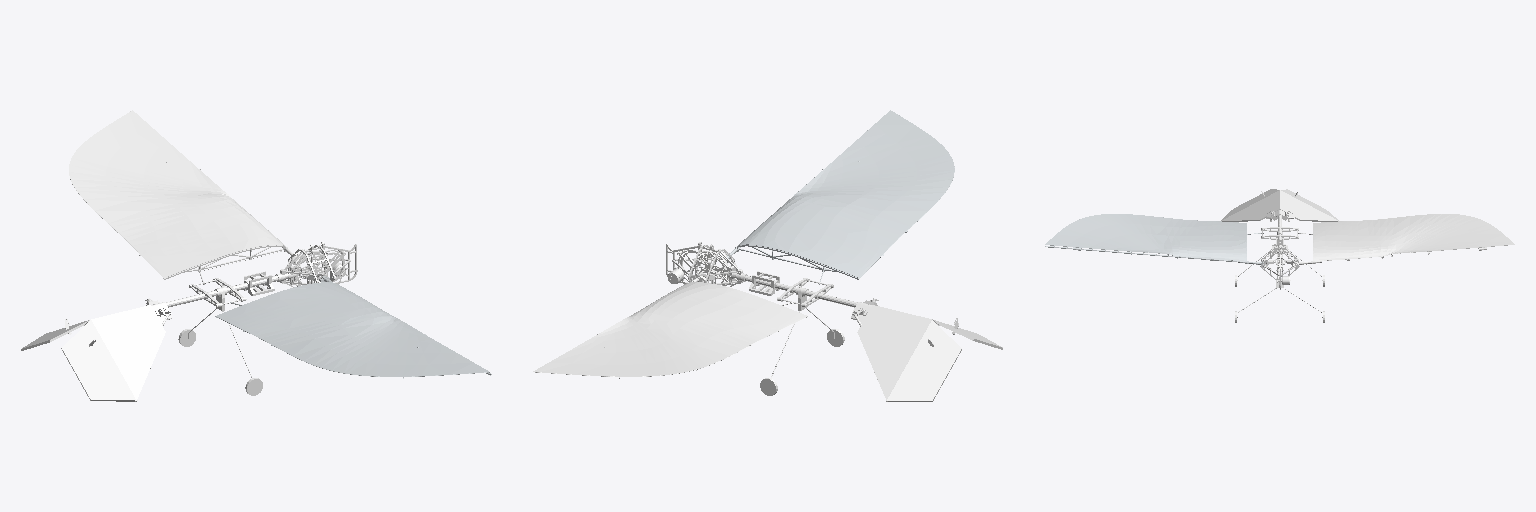
The robot description file, URDF, robot "flap_robot_v50":
<?xml version="1.0" encoding="utf-8"?>
<!-- This URDF was automatically created by SolidWorks to URDF Exporter! Originally created by Stephen Brawner (brawner@gmail.com) 
     Commit Version: 1.6.0-4-g7f85cfe  Build Version: 1.6.7995.38578
     For more information, please see http://wiki.ros.org/sw_urdf_exporter -->
<robot
  name="flap_robot_v50">
  <link
    name="base_link">
    <inertial>
      <origin
        xyz="-0.260802459386507 0.000662199130805234 -0.0309571464452782"
        rpy="0 0 0" />
      <mass
        value="0.468" />
      <inertia
        ixx="0.002390214378106"
        ixy="-0.000000006115854"
        ixz="-0.000079832048267"
        iyy="0.000747316706936"
        iyz="-0.000000002520206"
        izz="0.002714038518375" />
    </inertial>
    <visual>
      <origin
        xyz="0 0 0"
        rpy="0 0 0" />
      <geometry>
        <mesh
          filename="../meshes/base_link.STL" />
      </geometry>
      <material
        name="">
        <color
          rgba="1 1 1 1" />
      </material>
    </visual>
    <collision>
      <origin
        xyz="0 0 0"
        rpy="0 0 0" />
      <geometry>
        <mesh
          filename="../meshes/base_link.STL" />
      </geometry>
    </collision>
  </link>
  <link
    name="right_wing">
    <inertial>
      <origin
        xyz="-0.12151641416119 -0.309713216539523 0.00759174351901213"
        rpy="0 0 0" />
      <mass
        value="0.044" />
      <inertia
        ixx="0.001089709027872"
        ixy="0.000087727187230"
        ixz="-0.000003696614768"
        iyy="0.000269055322327"
        iyz="-0.000017204623714"
        izz="0.001356818829091" />
    </inertial>
    <visual>
      <origin
        xyz="0 0 0"
        rpy="0 0 0" />
      <geometry>
        <mesh
          filename="../meshes/youyi_Link.STL" />
      </geometry>
      <material
        name="">
        <color
          rgba="0.898039215686275 0.917647058823529 0.929411764705882 1" />
      </material>
    </visual>
    <collision>
      <origin
        xyz="0 0 0"
        rpy="0 0 0" />
      <geometry>
        <mesh
          filename="../meshes/youyi_Link.STL" />
      </geometry>
    </collision>
  </link>
  <joint
    name="right_wing"
    type="revolute">
    <origin
      xyz="0 -0.056 0"
      rpy="-0.086617 0 0" />
    <parent
      link="base_link" />
    <child
      link="right_wing" />
    <axis
      xyz="1 0 0" />
    <limit
      lower="-0.5233"
      upper="0.5233"
      effort="100"
      velocity="100" />
  </joint>
  <link
    name="left_tail">
    <inertial>
      <origin
        xyz="-0.0401317762710673 0.110798485089615 -0.00247150462781975"
        rpy="0 0 0" />
      <mass
        value="0.022" />
      <inertia
        ixx="0.000064045880082"
        ixy="-0.000000089877832"
        ixz="-0.000000002896830"
        iyy="0.000014879305060"
        iyz="0.000000003663537"
        izz="0.000078818503557" />
    </inertial>
    <visual>
      <origin
        xyz="0 0 0"
        rpy="0 0 0" />
      <geometry>
        <mesh
          filename="../meshes/zuowei_Link.STL" />
      </geometry>
      <material
        name="">
        <color
          rgba="1 1 1 1" />
      </material>
    </visual>
    <collision>
      <origin
        xyz="0 0 0"
        rpy="0 0 0" />
      <geometry>
        <mesh
          filename="../meshes/zuowei_Link.STL" />
      </geometry>
    </collision>
  </link>
  <joint
    name="left_tail"
    type="revolute">
    <origin
      xyz="-0.53908 0.00073629 0.0093843"
      rpy="-0.53545 -0.20053 0.11763" />
    <parent
      link="base_link" />
    <child
      link="left_tail" />
    <axis
      xyz="0 1 0" />
    <limit
      lower="-0.5233"
      upper="0.725"
      effort="10"
      velocity="10" />
  </joint>
  <link
    name="right_tail">
    <inertial>
      <origin
        xyz="-0.0401318162090121 -0.110798598518838 -0.00247150577330381"
        rpy="0 0 0" />
      <mass
        value="0.022" />
      <inertia
        ixx="0.000064045764193"
        ixy="0.000000089951783"
        ixz="-0.000000002896546"
        iyy="0.000014879300869"
        iyz="-0.000000003662537"
        izz="0.000078818383467" />
    </inertial>
    <visual>
      <origin
        xyz="0 0 0"
        rpy="0 0 0" />
      <geometry>
        <mesh
          filename="../meshes/youwei_Link.STL" />
      </geometry>
      <material
        name="">
        <color
          rgba="1 1 1 1" />
      </material>
    </visual>
    <collision>
      <origin
        xyz="0 0 0"
        rpy="0 0 0" />
      <geometry>
        <mesh
          filename="../meshes/youwei_Link.STL" />
      </geometry>
    </collision>
  </link>
  <joint
    name="right_tail"
    type="revolute">
    <origin
      xyz="-0.53899 -0.00074537 0.0094"
      rpy="0.53219 -0.17122 -0.099999" />
    <parent
      link="base_link" />
    <child
      link="right_tail" />
    <axis
      xyz="0 1 0" />
    <limit
      lower="-0.5233"
      upper="0.725"
      effort="10"
      velocity="10" />
  </joint>
  <link
    name="left_wing">
    <inertial>
      <origin
        xyz="-0.122632640539888 0.299249209491994 0.00783961069426547"
        rpy="0 0 0" />
      <mass
        value="0.044" />
      <inertia
        ixx="0.001021963127729"
        ixy="-0.000086329192597"
        ixz="-0.000004312069743"
        iyy="0.000272577419213"
        iyz="0.000018155227729"
        izz="0.001292202627911" />
    </inertial>
    <visual>
      <origin
        xyz="0 0 0"
        rpy="0 0 0" />
      <geometry>
        <mesh
          filename="../meshes/zuoyi_Link.STL" />
      </geometry>
      <material
        name="">
        <color
          rgba="1 1 1 1" />
      </material>
    </visual>
    <collision>
      <origin
        xyz="0 0 0"
        rpy="0 0 0" />
      <geometry>
        <mesh
          filename="../meshes/zuoyi_Link.STL" />
      </geometry>
    </collision>
  </link>
  <joint
    name="left_wing"
    type="revolute">
    <origin
      xyz="0 0.056 0"
      rpy="0.0866171988231493 0 0" />
    <parent
      link="base_link" />
    <child
      link="left_wing" />
    <axis
      xyz="-1 0 0" />
    <limit
      lower="-0.5233"
      upper="0.5233"
      effort="100"
      velocity="100" />
  </joint>
</robot>

--- What the picture shows (computed from the rendered views, not written in the file) ---
Views: 3 orthographic renders of the robot side by side, from view 1: azimuth 30°, elevation 25°; view 2: azimuth 150°, elevation 25°; view 3: azimuth 270°, elevation 25°.
Model flap_robot_v50 with 5 links and 4 joints (4 revolute), rooted at base_link, posed every joint at zero.
Links seen in each view (by area): view 1: left_wing, right_wing, base_link, right_tail; view 2: right_wing, left_wing, base_link, left_tail; view 3: right_wing, left_wing, base_link.
Boxes of the visible links, left/top/right/bottom form: left_wing: left=69, top=110, right=304, bottom=284; right_wing: left=215, top=276, right=491, bottom=378; base_link: left=49, top=242, right=357, bottom=399; right_tail: left=61, top=320, right=137, bottom=401; right_wing: left=720, top=110, right=954, bottom=284; left_wing: left=533, top=275, right=807, bottom=378; base_link: left=666, top=242, right=939, bottom=399; left_tail: left=886, top=320, right=961, bottom=401; right_wing: left=1045, top=214, right=1263, bottom=264; left_wing: left=1296, top=214, right=1514, bottom=266; base_link: left=1222, top=190, right=1337, bottom=322.
Bounding box of the posed robot: 0.7378 × 1.51 × 0.2565 m (x, y, z).
Meshes: 5 distinct files referenced, 5 mesh visuals loaded (5 binary STL).
